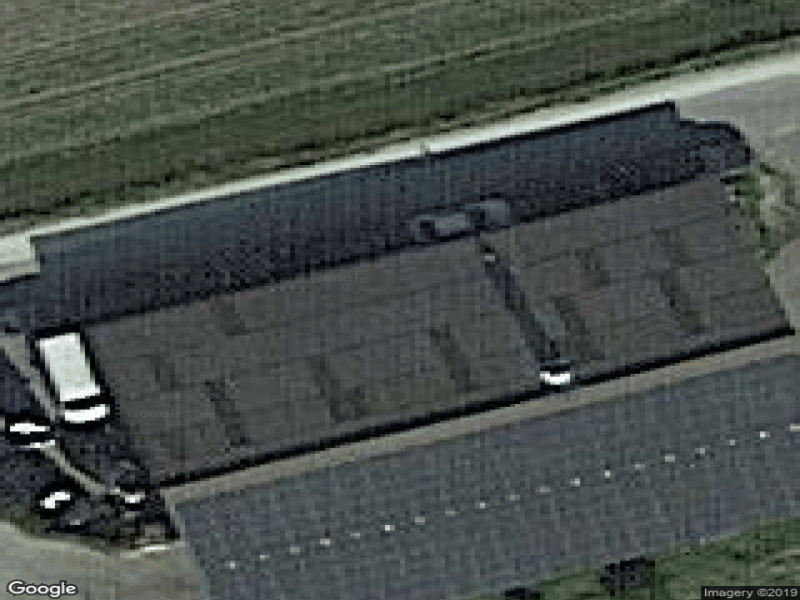pv: (180, 354, 800, 597)
